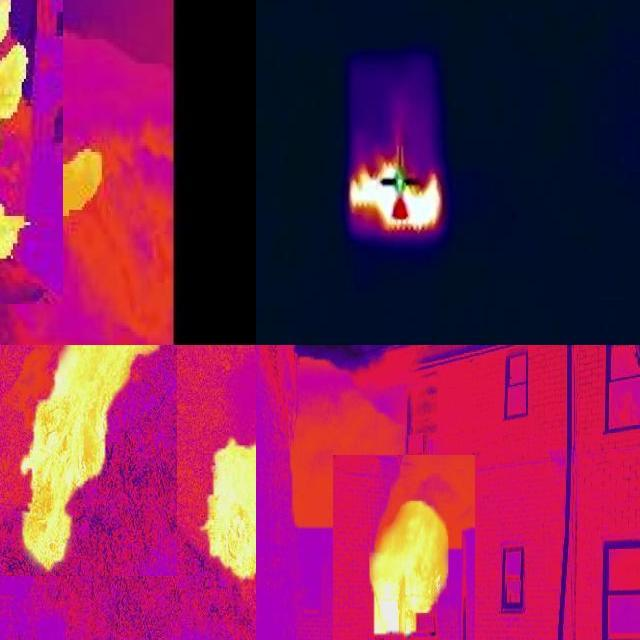fire: (19, 347, 162, 570), (371, 499, 453, 640), (1, 1, 33, 277), (349, 146, 442, 236), (208, 438, 256, 583), (63, 143, 103, 219)
